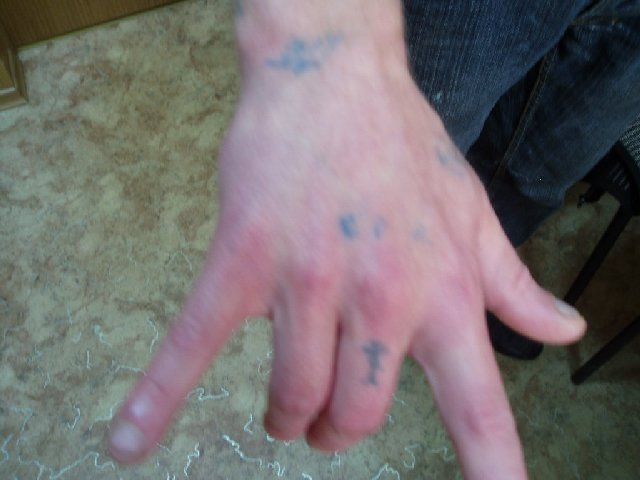tatu9_krest: (354, 336, 392, 388)
